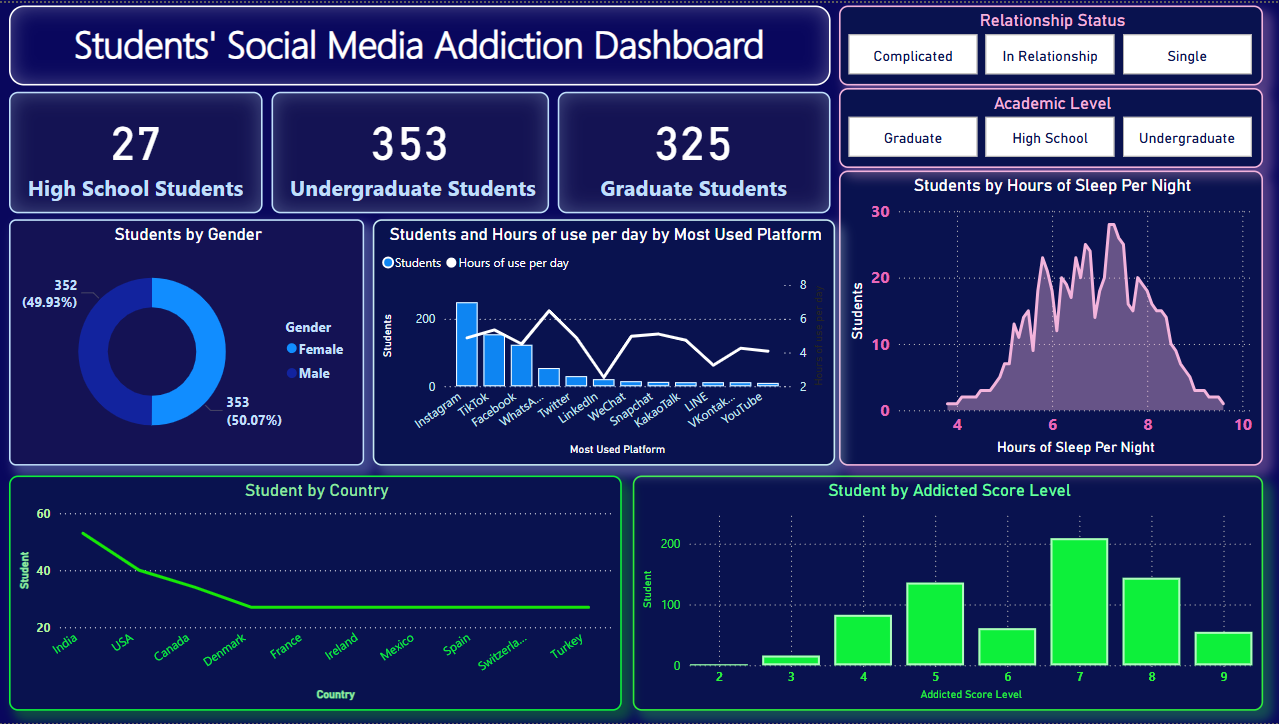

Layout of this report page (visuals, bound fields, positions):
{"tool":"powerbi","page":{"name":"Page 1","canvas":[1280,720],"ordinal":0},"visuals":[{"type":"textbox","box":[10,2.5,821.2,80],"z":0},{"type":"card","fields":{"Values":["CountNonNull(Students Social Media Addiction.Student_ID)"]},"box":[272.5,88.8,277.5,121.2],"z":1000},{"type":"card","fields":{"Values":["CountNonNull(Students Social Media Addiction.Student_ID)"]},"box":[10,88.8,253.8,121.2],"z":2000},{"type":"card","fields":{"Values":["CountNonNull(Students Social Media Addiction.Student_ID)"]},"box":[558.8,88.8,272.5,121.2],"z":3000},{"type":"donutChart","fields":{"Category":["Students Social Media Addiction.Gender"],"Y":["CountNonNull(Students Social Media Addiction.Student_ID)"]},"box":[10,216.2,355,246.2],"z":4000},{"type":"clusteredColumnChart","fields":{"Category":["Students Social Media Addiction.Addicted_Score"],"Y":["CountNonNull(Students Social Media Addiction.Student_ID)"]},"box":[633.8,472.5,630,235],"z":5000},{"type":"areaChart","fields":{"Y":["CountNonNull(Students Social Media Addiction.Student_ID)"],"Category":["Students Social Media Addiction.Sleep_Hours_Per_Night"]},"box":[840,167.5,423.8,295],"z":6000},{"type":"lineStackedColumnComboChart","fields":{"Y":["CountNonNull(Students Social Media Addiction.Student_ID)"],"Category":["Students Social Media Addiction.Most_Used_Platform"],"Y2":["Avg(Students Social Media Addiction.Avg_Daily_Usage_Hours)"]},"box":[373.8,216.2,462.5,246.2],"z":7000},{"type":"lineChart","fields":{"Category":["Students Social Media Addiction.Country"],"Y":["CountNonNull(Students Social Media Addiction.Student_ID)"]},"box":[10,472.5,612.5,235],"z":8000},{"type":"advancedSlicerVisual","title":"Relationship Status","fields":{"Values":["Students Social Media Addiction.Relationship_Status"]},"box":[840,2.5,423.8,80],"z":9000},{"type":"advancedSlicerVisual","title":"Academic Level","fields":{"Values":["Students Social Media Addiction.Academic_Level"]},"box":[840,85,423.8,80],"z":9001}]}

Visuals, with their boxes in screenshot pixels (x1, y1, x2, y2), scaled from the page's 1280x720 canvas onto the 1279x724 screenshot:
textbox: (10, 3, 831, 83)
card - CountNonNull(Students Social Media Addiction.Student_ID): (272, 89, 550, 211)
card - CountNonNull(Students Social Media Addiction.Student_ID): (10, 89, 264, 211)
card - CountNonNull(Students Social Media Addiction.Student_ID): (558, 89, 831, 211)
donutChart - Students Social Media Addiction.Gender x CountNonNull(Students Social Media Addiction.Student_ID): (10, 217, 365, 465)
clusteredColumnChart - Students Social Media Addiction.Addicted_Score x CountNonNull(Students Social Media Addiction.Student_ID): (633, 475, 1263, 711)
areaChart - CountNonNull(Students Social Media Addiction.Student_ID) x Students Social Media Addiction.Sleep_Hours_Per_Night: (839, 168, 1263, 465)
lineStackedColumnComboChart - CountNonNull(Students Social Media Addiction.Student_ID) x Students Social Media Addiction.Most_Used_Platform: (374, 217, 836, 465)
lineChart - Students Social Media Addiction.Country x CountNonNull(Students Social Media Addiction.Student_ID): (10, 475, 622, 711)
"Relationship Status" advancedSlicerVisual: (839, 3, 1263, 83)
"Academic Level" advancedSlicerVisual: (839, 85, 1263, 166)
